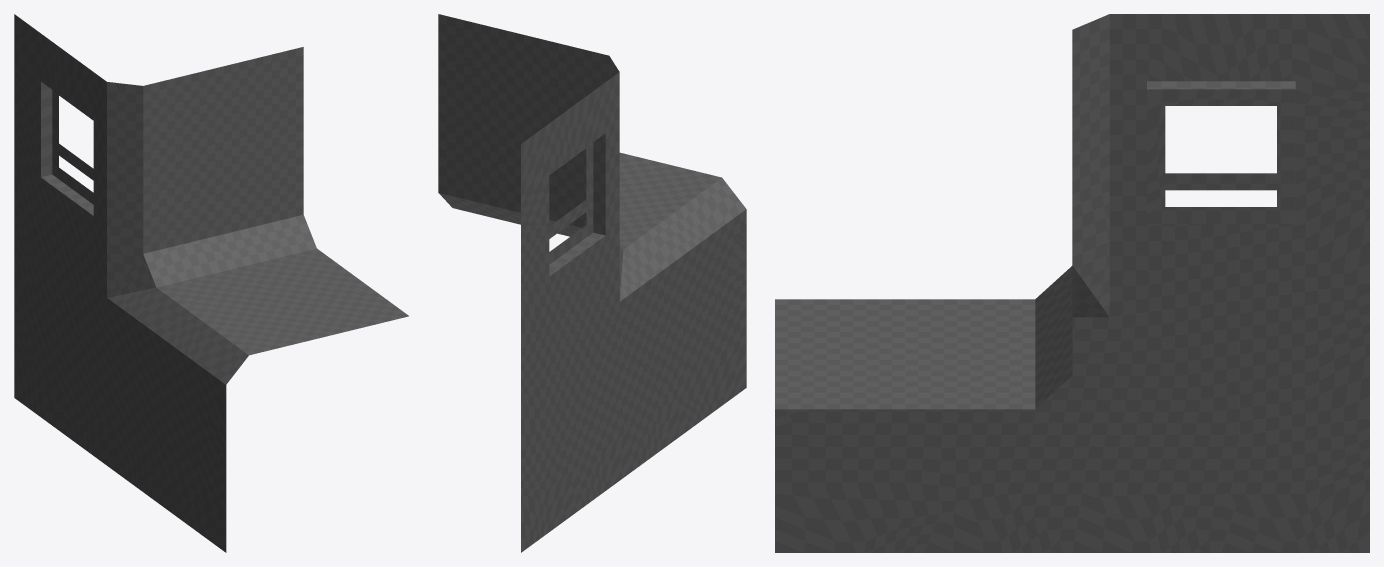
3 renders of one model, left to right at view 1: azimuth 30°, elevation 25°; view 2: azimuth 150°, elevation 25°; view 3: azimuth 270°, elevation 25°, orthographic. The views are drawn at different scales.
Parts seen in each view (by area): view 1: 1; view 2: 1; view 3: 1.
Part boxes in pixels (<box>): 1: <box>14,14,408,552</box>; 1: <box>438,14,746,552</box>; 1: <box>775,14,1369,552</box>.
Bounding box in the file's own units: 2 × 4 × 4.
Materials: 2 (2 with a texture image).
